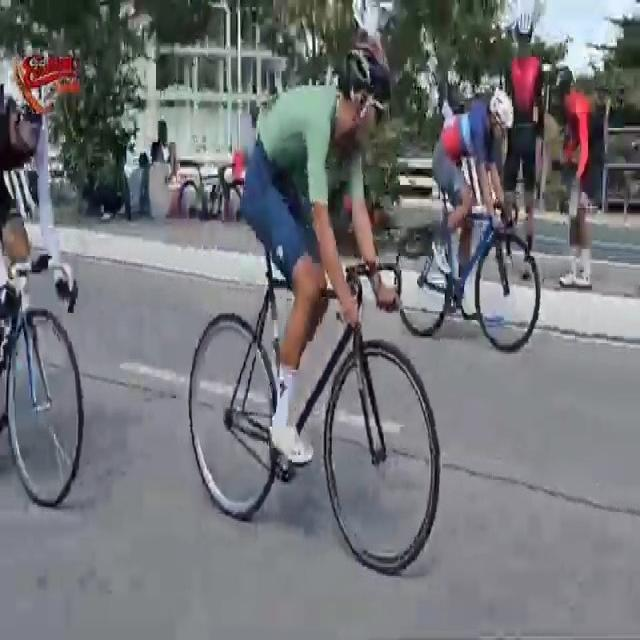bike: (185, 30, 442, 585), (396, 88, 542, 358), (0, 120, 89, 520), (180, 154, 243, 226)
